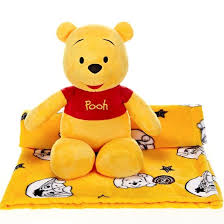Winnie: (50, 19, 139, 119)
